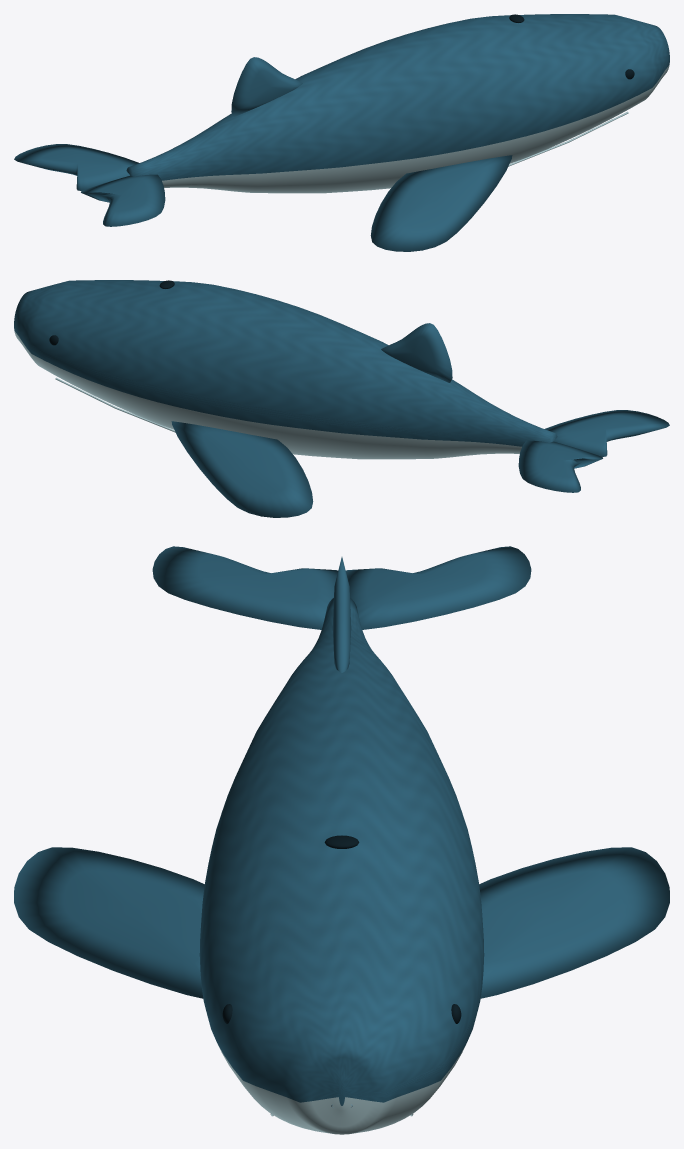
Rendered from m_bluewhale.glb.
3 views of the same model, one above another, from view 1: azimuth 30°, elevation 25°; view 2: azimuth 150°, elevation 25°; view 3: azimuth 270°, elevation 25° (orthographic). The views are drawn at different scales.
Parts seen in each view (by area): view 1: Bluewhale; view 2: Bluewhale; view 3: Bluewhale.
Part boxes in pixels (left/top/right/bottom): Bluewhale: left=14, top=14, right=669, bottom=251; Bluewhale: left=14, top=280, right=669, bottom=517; Bluewhale: left=14, top=546, right=669, bottom=1134.
Bounding box in the file's own units: 1.1 × 0.2831 × 0.5659.
4 materials, 1 textured.
